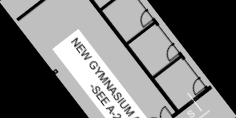door: (69, 0, 181, 113), (169, 98, 196, 118), (160, 42, 182, 64), (187, 76, 208, 97)
double door: (134, 8, 156, 29)
wall: (14, 0, 58, 24), (124, 17, 159, 47), (152, 52, 185, 80), (192, 83, 214, 103), (99, 0, 130, 11)
